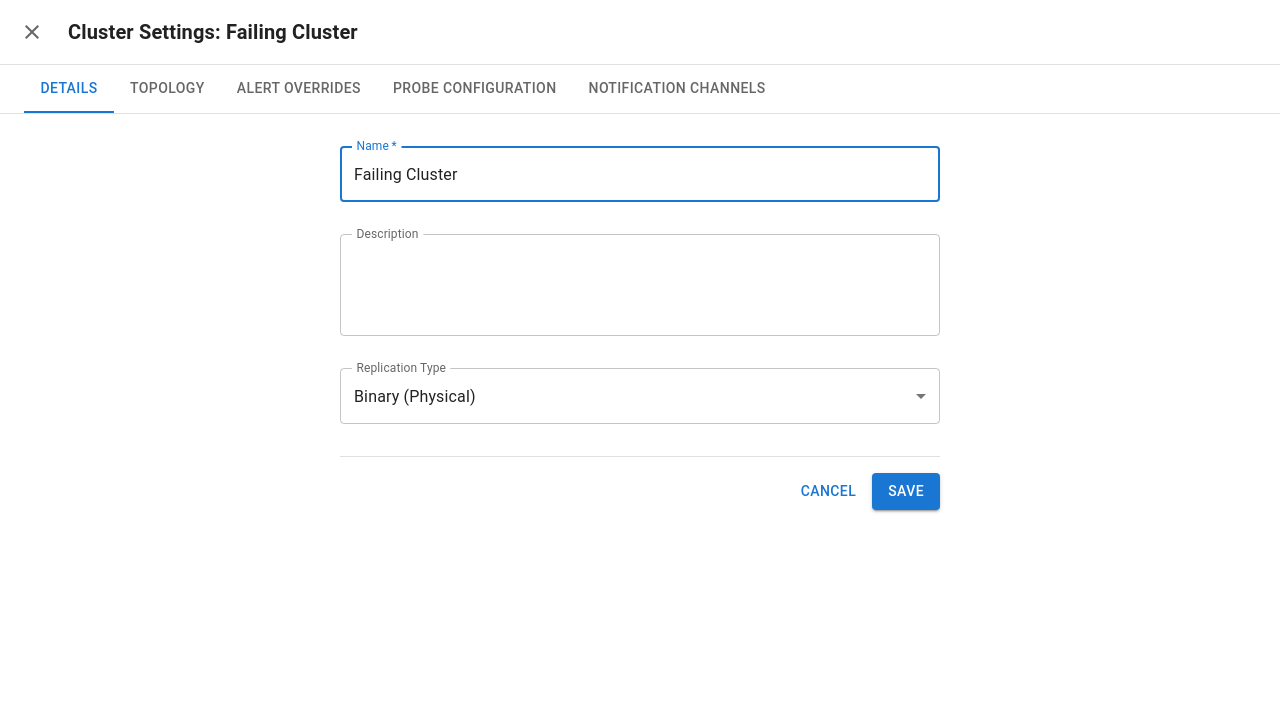
Test: ClusterConfigDialog › save flow › surfaces a fallback error when save rejects with a non-Error
What coordinates should you click on to do the following:
click the button "Save"
I would click on:
 (906, 491)
Its box is [872,473,940,510].
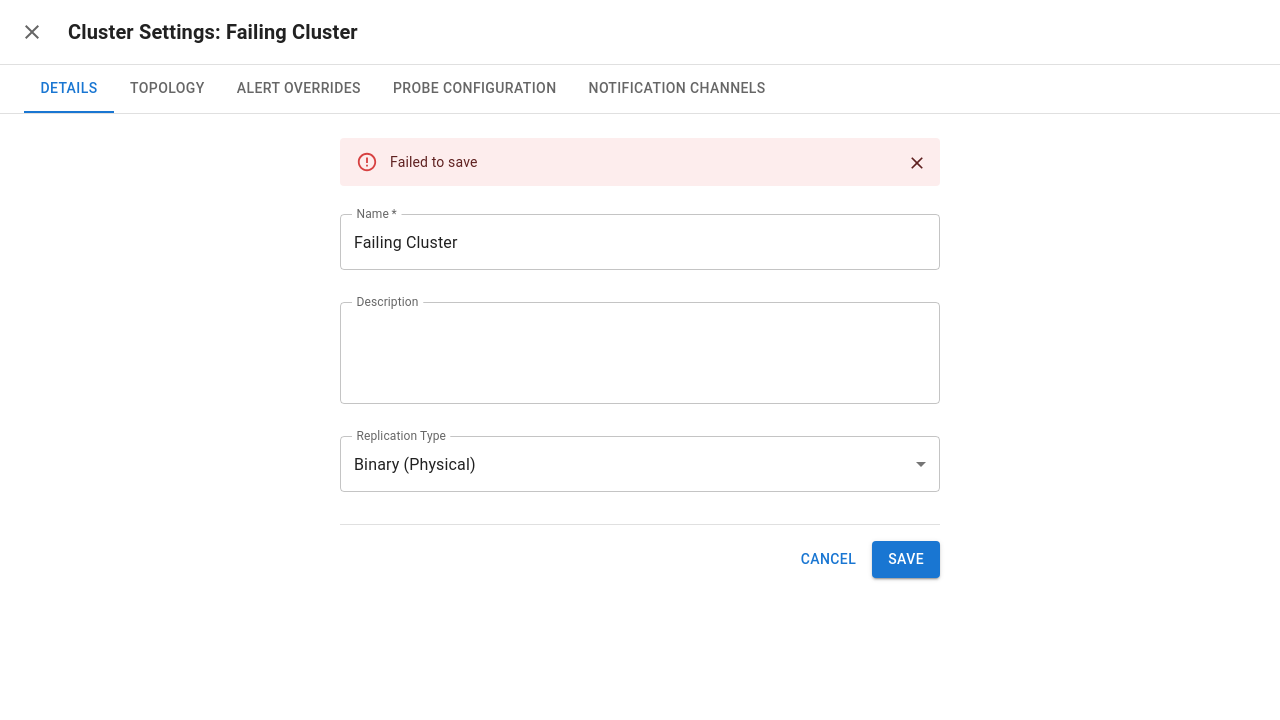
Result: the text "Failed to save" is shown at [390,154,478,170]
